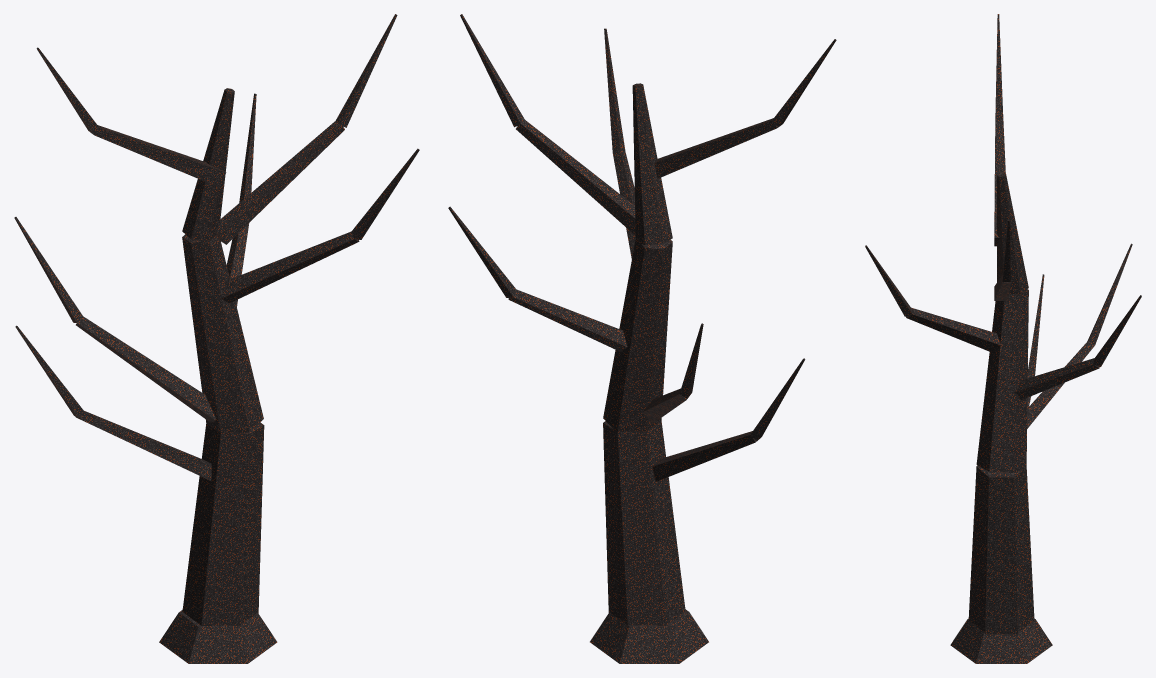
File: tree_dead.glb
3 renders of one model, left to right at view 1: azimuth 30°, elevation 25°; view 2: azimuth 150°, elevation 25°; view 3: azimuth 270°, elevation 25°, orthographic. The views are drawn at different scales.
Parts seen in each view (by area): view 1: Body.009; view 2: Body.009; view 3: Body.009.
Part boxes in pixels (x1,y1,x2,y2): Body.009: [14, 14, 419, 663]; Body.009: [448, 14, 836, 663]; Body.009: [865, 14, 1141, 663].
Bounding box in the file's own units: 3.21 × 5.39 × 2.43.
1 material, 1 textured.
